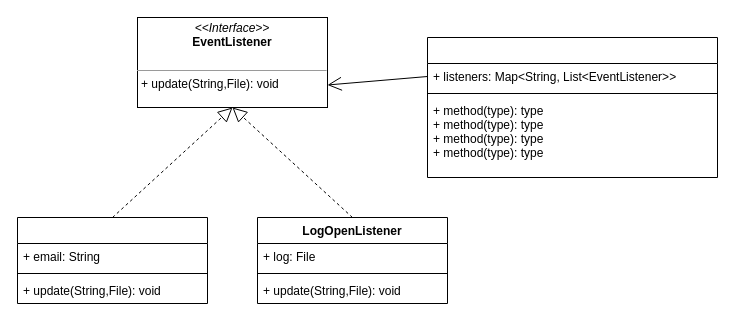
The diagram is 735 pixels wide and 324 high, and some of its shapes have lost their labels. The box of each missing label's shape, as (x1, y1, x2, y2) in pixels:
EmailNotificationListener: (16, 216, 208, 304)
EventManager: (426, 36, 718, 178)
